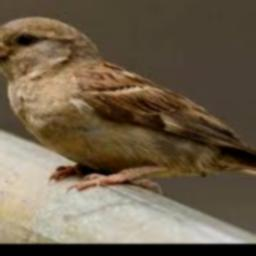Sparrow: (0, 15, 256, 192)
